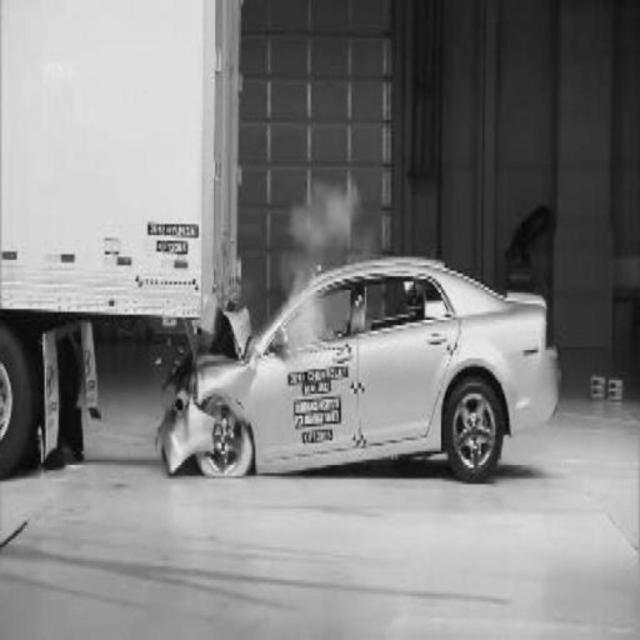accident: (2, 110, 548, 474)
